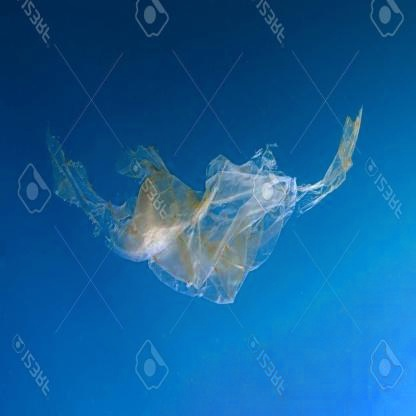pbag: (39, 103, 371, 307)
